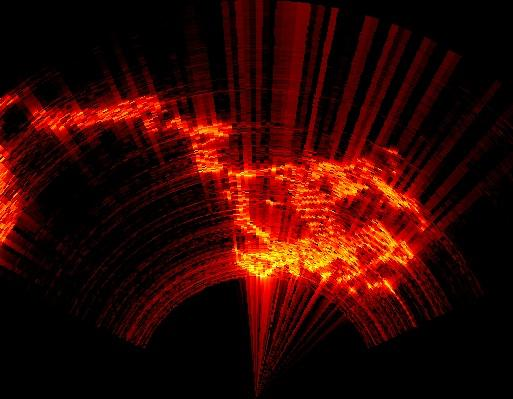shipwreck: (31, 94, 421, 281)
